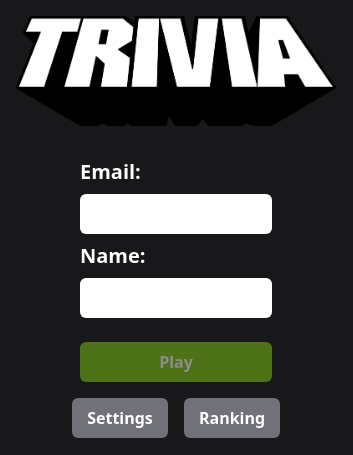
Test: Test the login page › test if the play button is enabled if the inputs are filled
The width and height of the screenshot is (353, 455).
Type "player@gmail.com" into the field labelled "Email:".
click(176, 214); type("player@gmail.com")  # box [80,194,272,234]
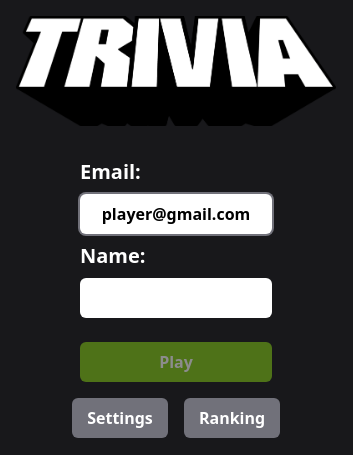
Type "Player" into the field labelled "Name:".
click(176, 298); type("Player")  # box [80,278,272,318]
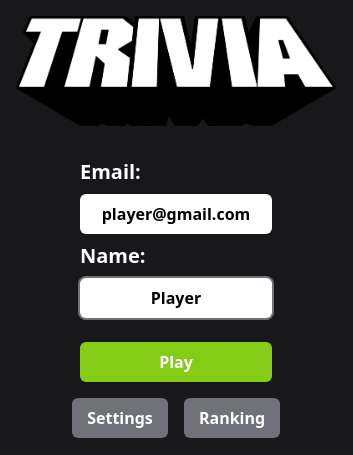
Expected: the button "Play" is enabled, [80,342,272,382]
